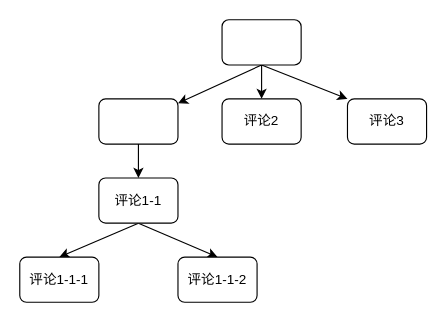
The diagram is 446 pixels wide and 322 high, and some of its shapes have lost their labels. Each missing label, with the centre of its shape:
"商品" belongs at point (261, 42).
"评论1" belongs at point (138, 121).
